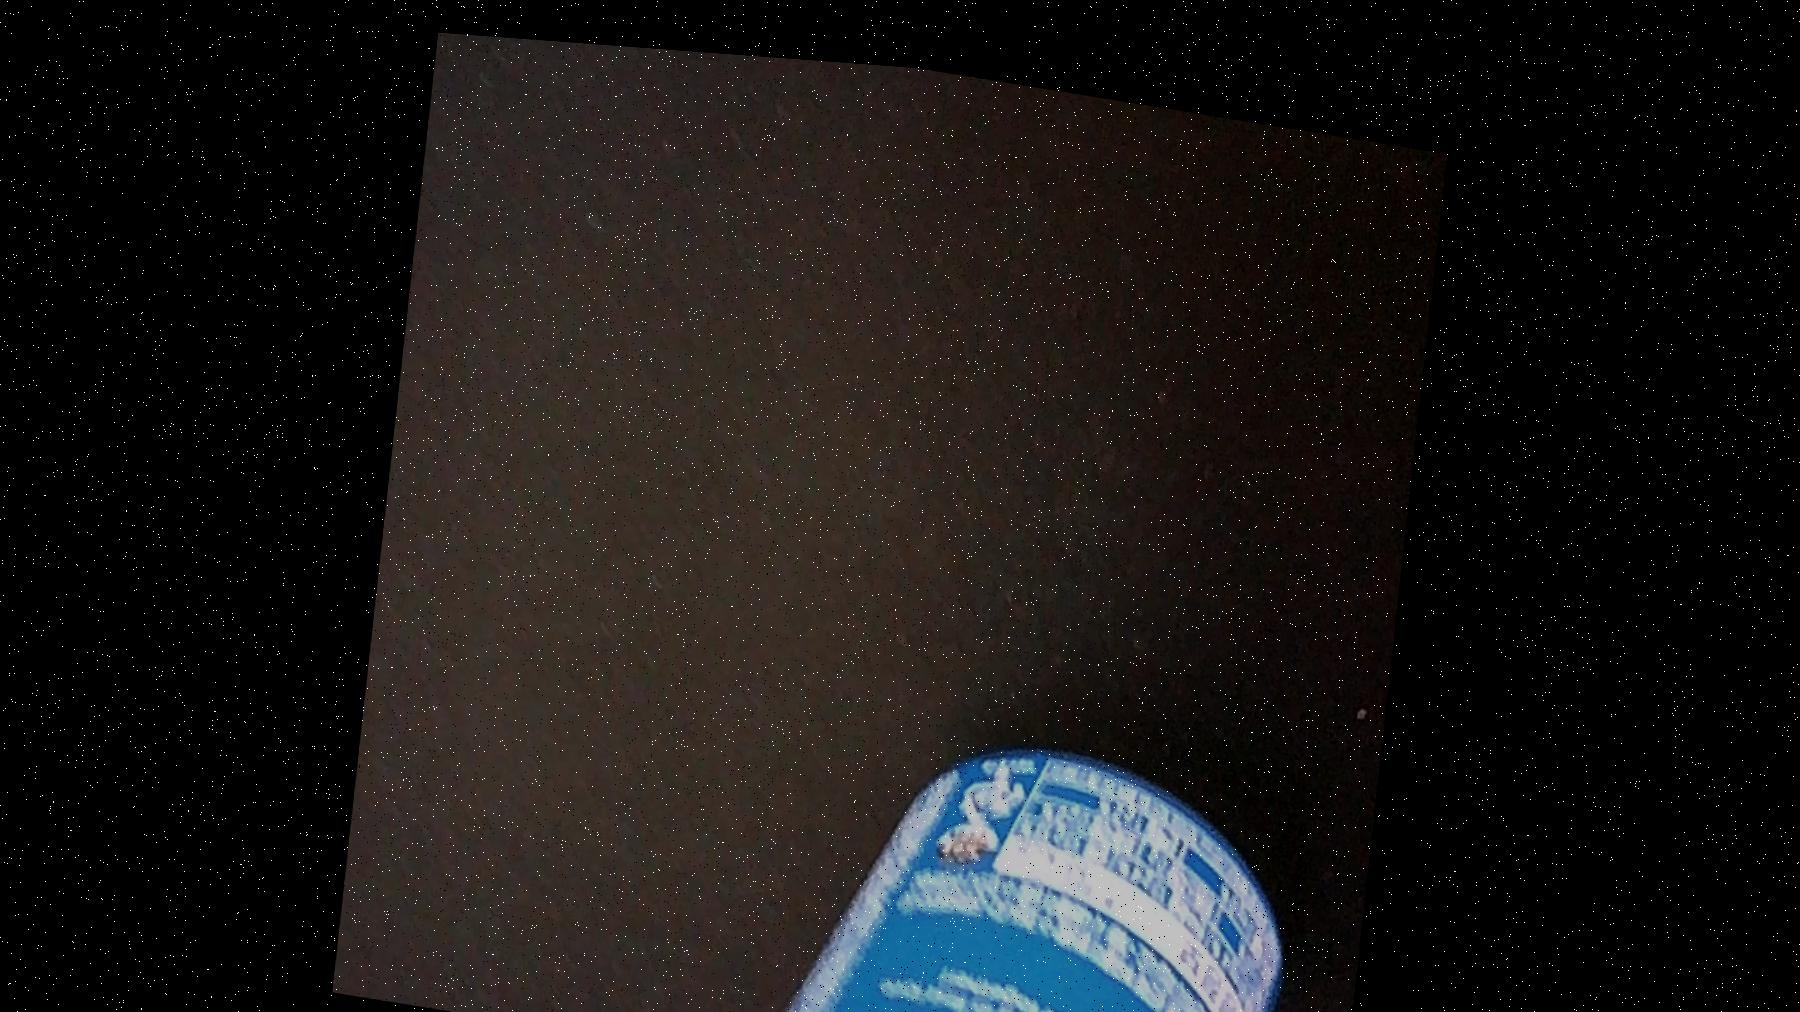letsbe: (596, 668, 1310, 1012)
